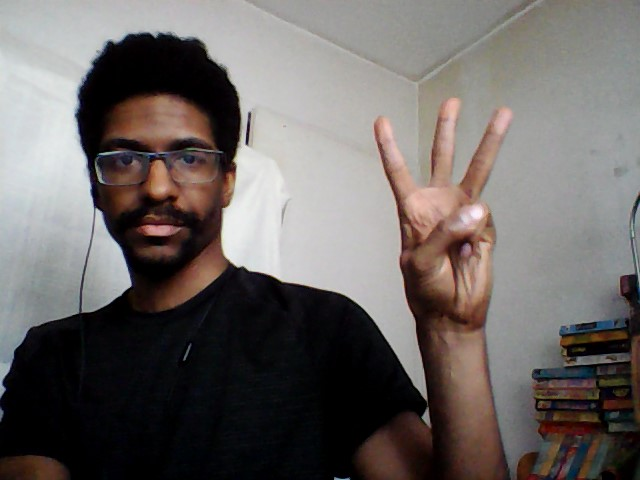w: (367, 92, 517, 331)
